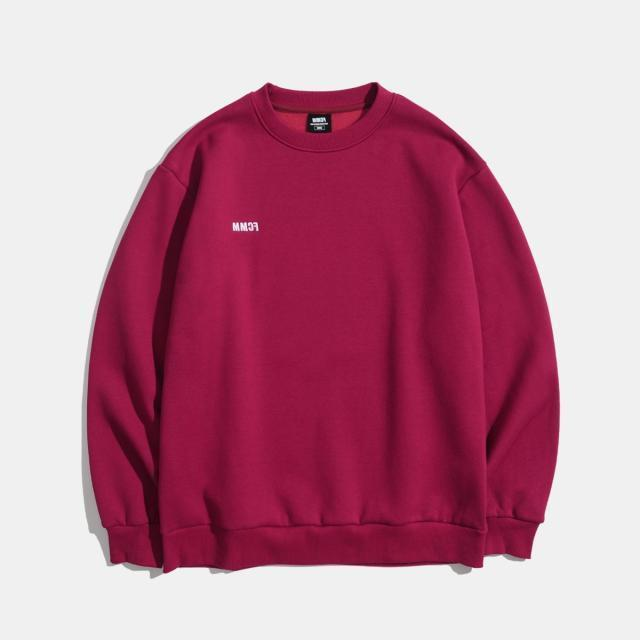sweater: (84, 79, 565, 578)
